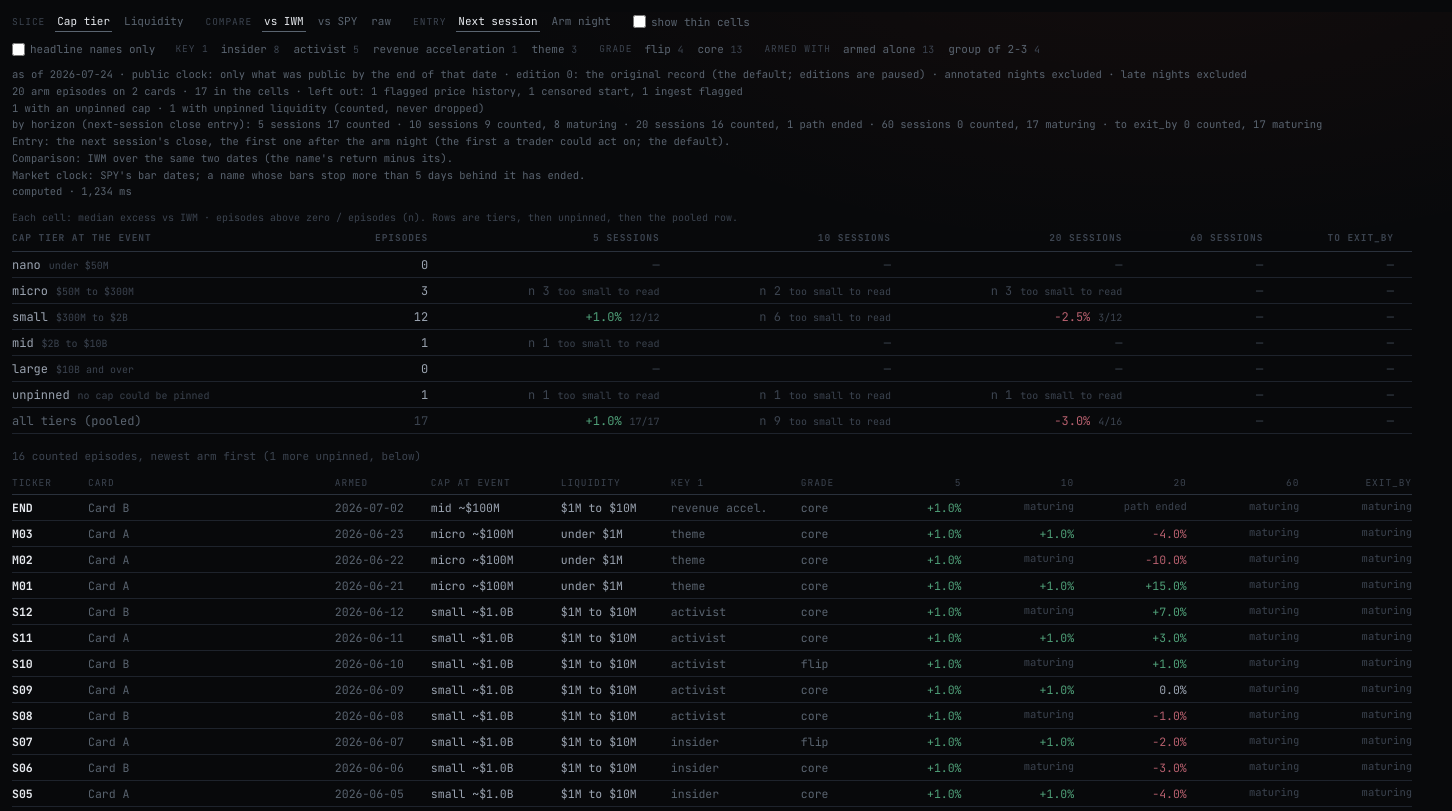
it: TrackRecord — the toggles re-table the page with no request › switches the comparison to SPY and to the raw return
Click the button "Arm night": [581, 22] box [550, 12, 613, 32]
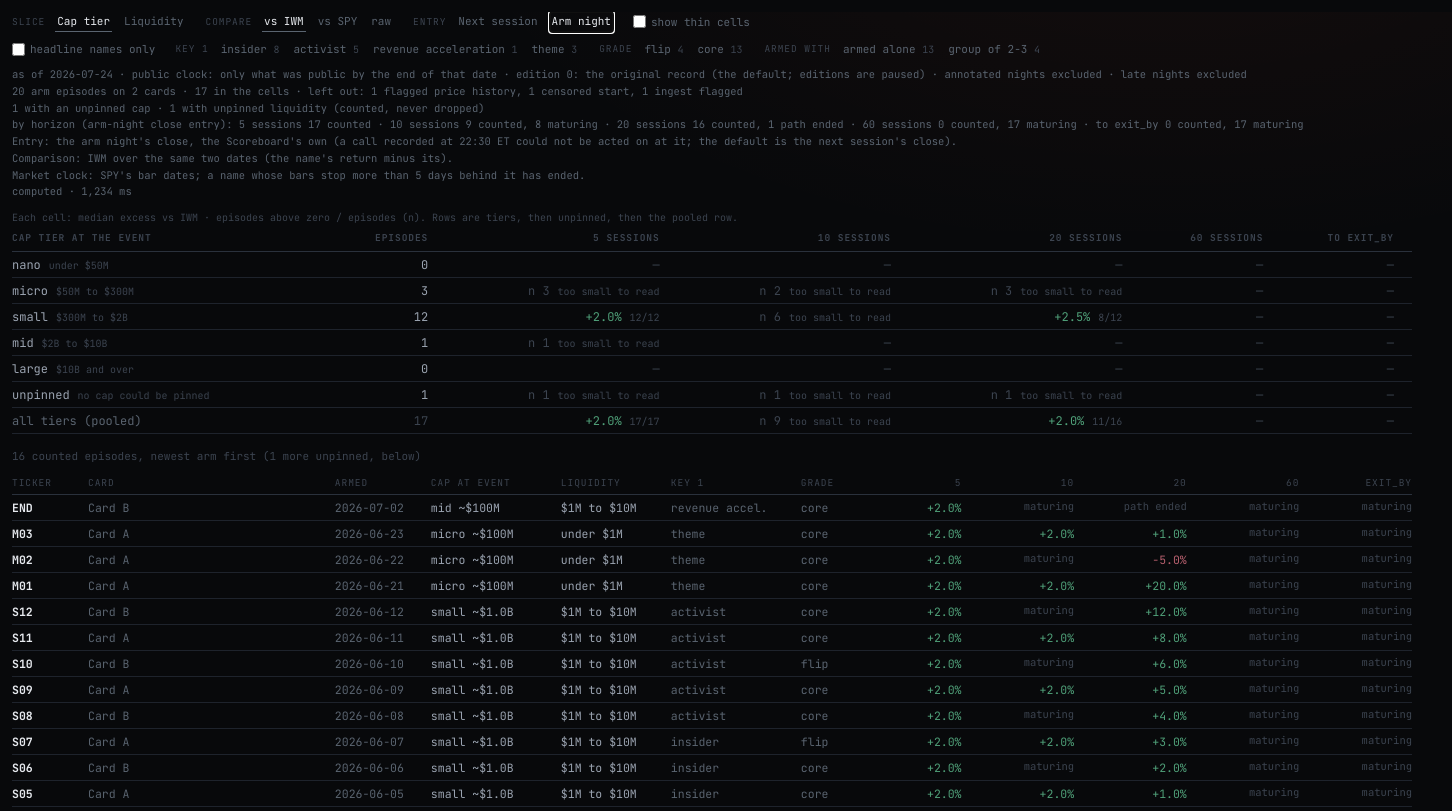
Click the button "vs SPY": [338, 22] box [316, 12, 359, 32]
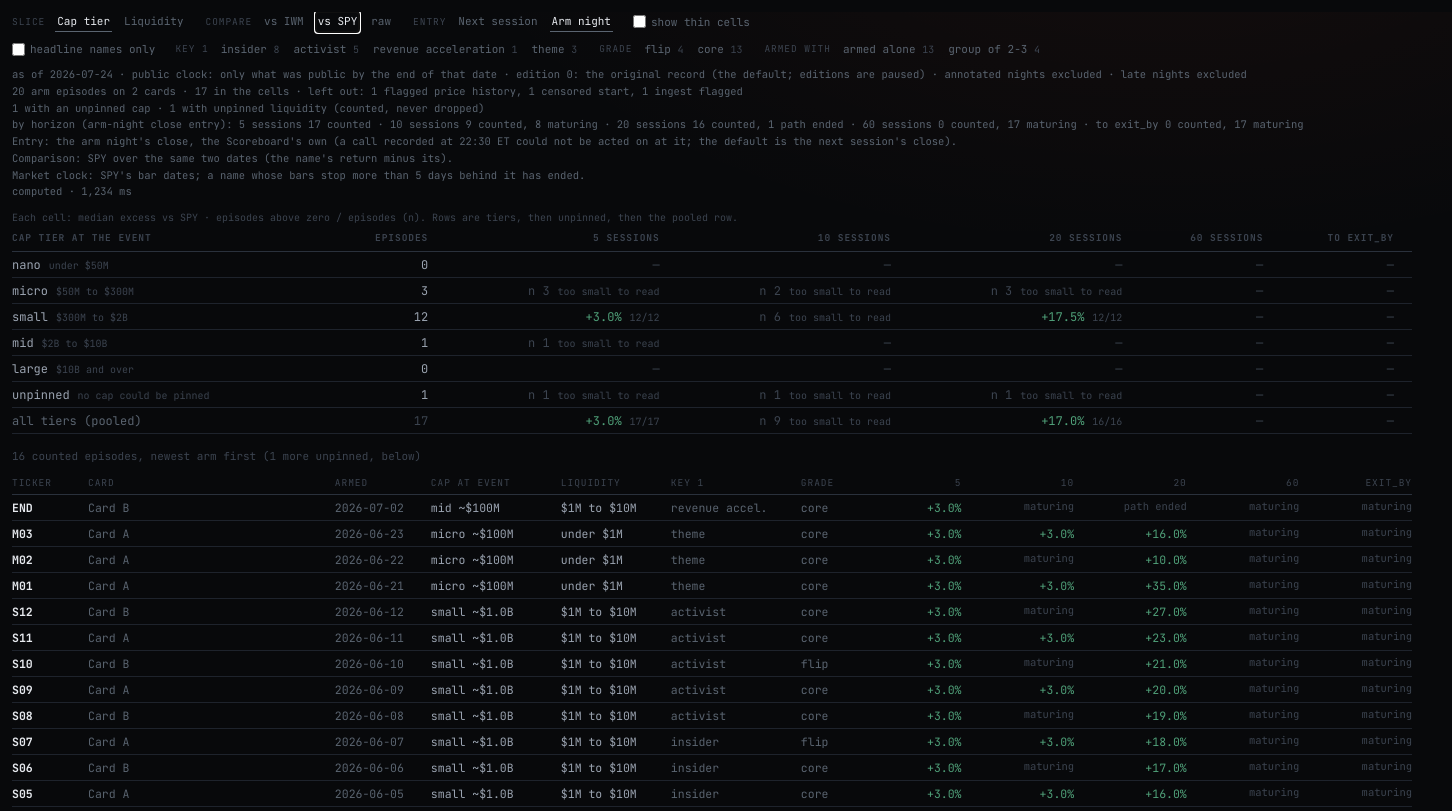
Result: the text "Each cell: median excess vs SPY" is shown at [12, 211, 738, 224]
Click the button "raw": [381, 22] box [369, 12, 393, 32]
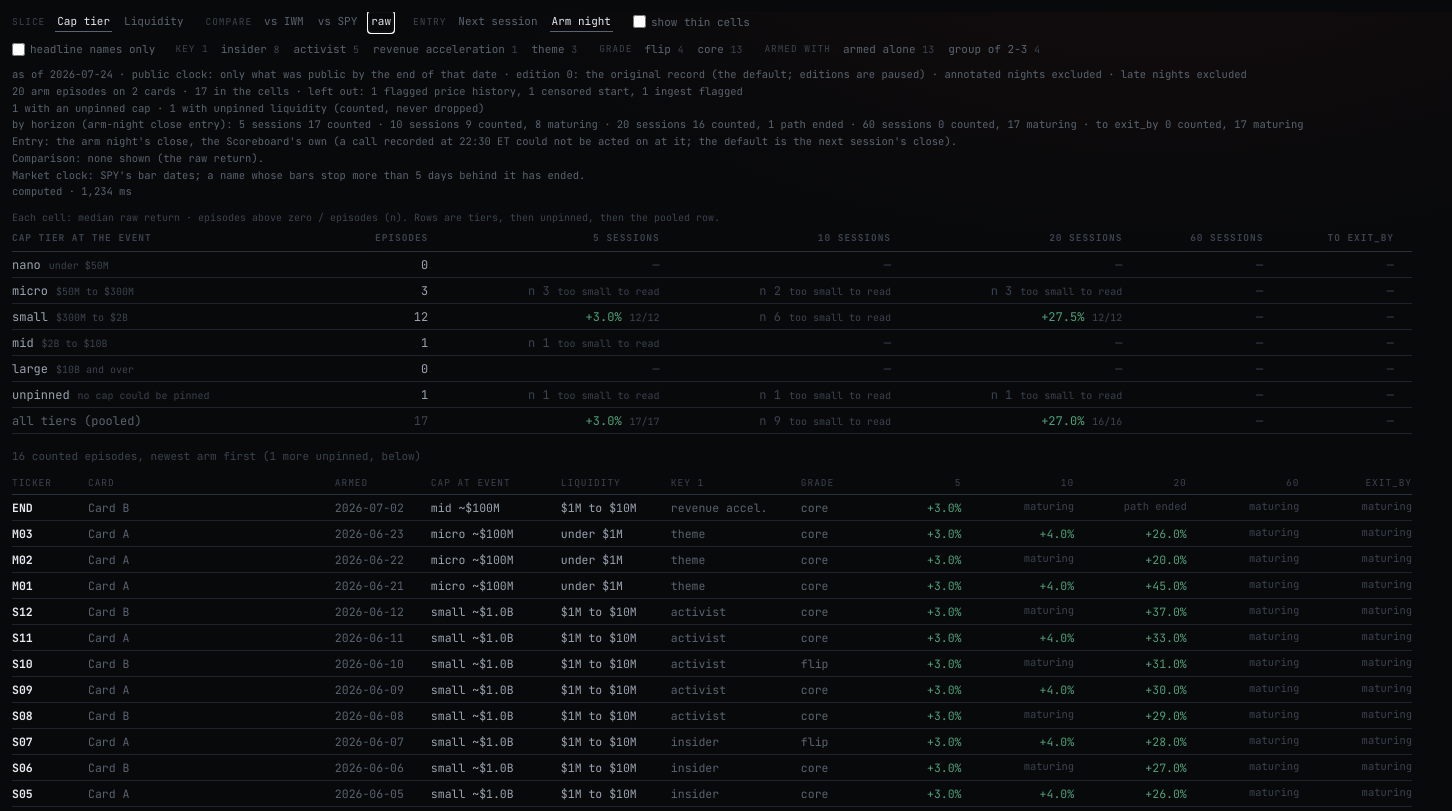
Result: the text "Each cell: median raw return" is shown at [12, 211, 720, 224]
Result: the text "Comparison: none shown (the raw return)." is shown at [12, 151, 264, 165]
